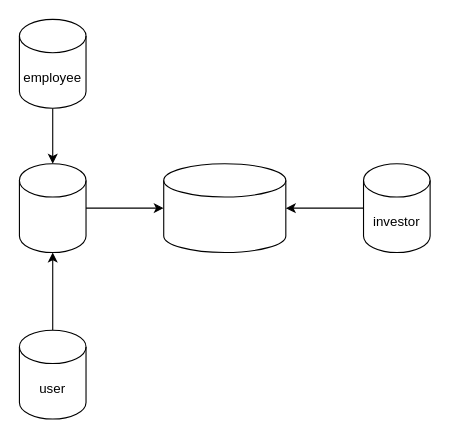
This 450x438 diagram has some shape labels left out. The shapes that lost their labels are listed below. From the top down, each one's box as (x1, y1, x2, y2) in pixels, then its label:
(18, 163, 86, 253): loan
(163, 163, 286, 253): loan_investment
